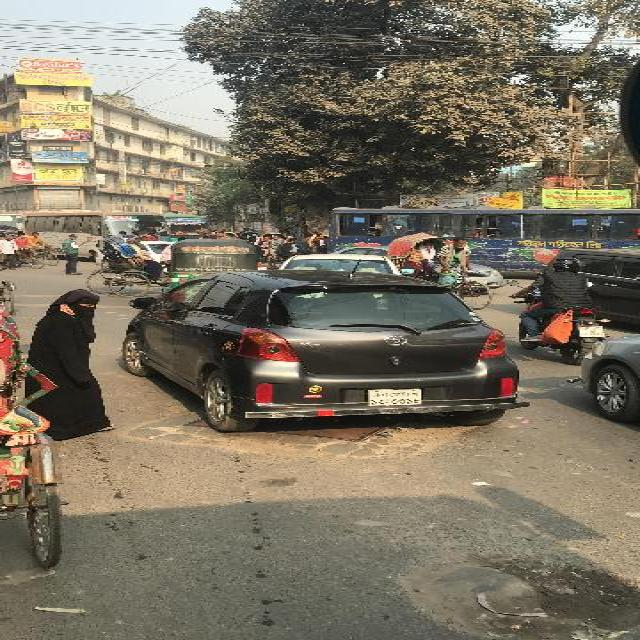bus: (324, 206, 636, 274), (20, 210, 172, 258), (162, 212, 210, 238)
car: (119, 270, 528, 430), (542, 248, 638, 324), (277, 252, 402, 278)
motorbike: (506, 256, 610, 366)
rickshaw: (2, 308, 66, 572), (386, 231, 492, 309), (84, 236, 168, 296), (3, 232, 42, 268), (258, 232, 286, 268), (308, 232, 328, 254), (215, 230, 237, 240), (240, 230, 258, 238)
three wheelers -CNG-: (169, 238, 258, 294)
